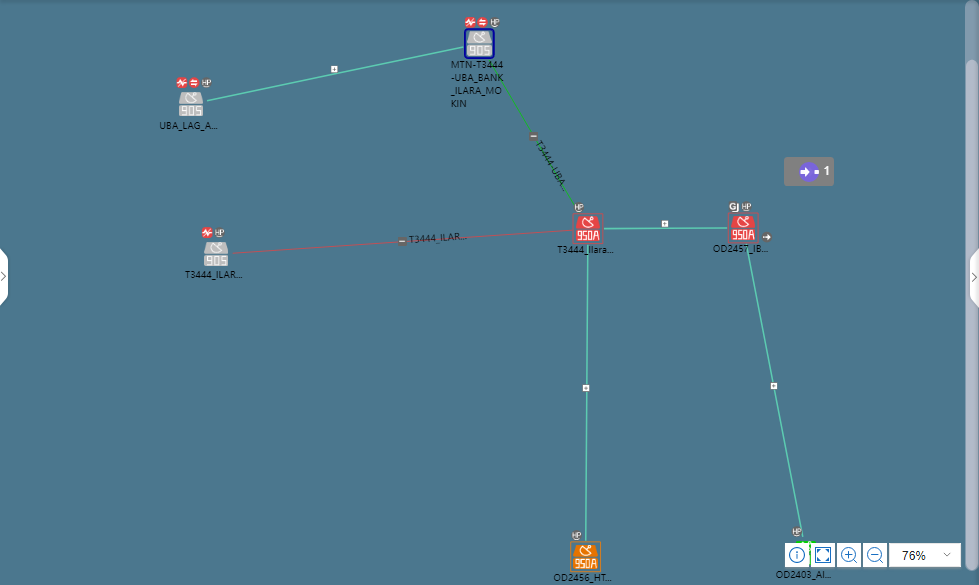Link_Blue: (743, 247, 802, 533), (205, 45, 460, 101)
Link_Green: (486, 63, 583, 214)
Link_Red: (229, 228, 552, 254)
RTN_Gray: (462, 32, 497, 62), (205, 240, 226, 270), (181, 94, 200, 115)
RTN_Orange: (572, 546, 601, 575)
RTN_Red: (731, 216, 760, 245), (572, 216, 600, 245)
